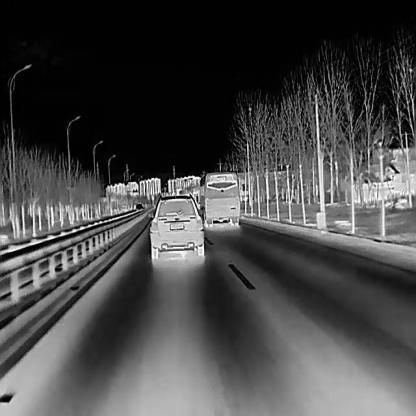car: (147, 193, 204, 259), (198, 171, 239, 227), (135, 203, 143, 212)
